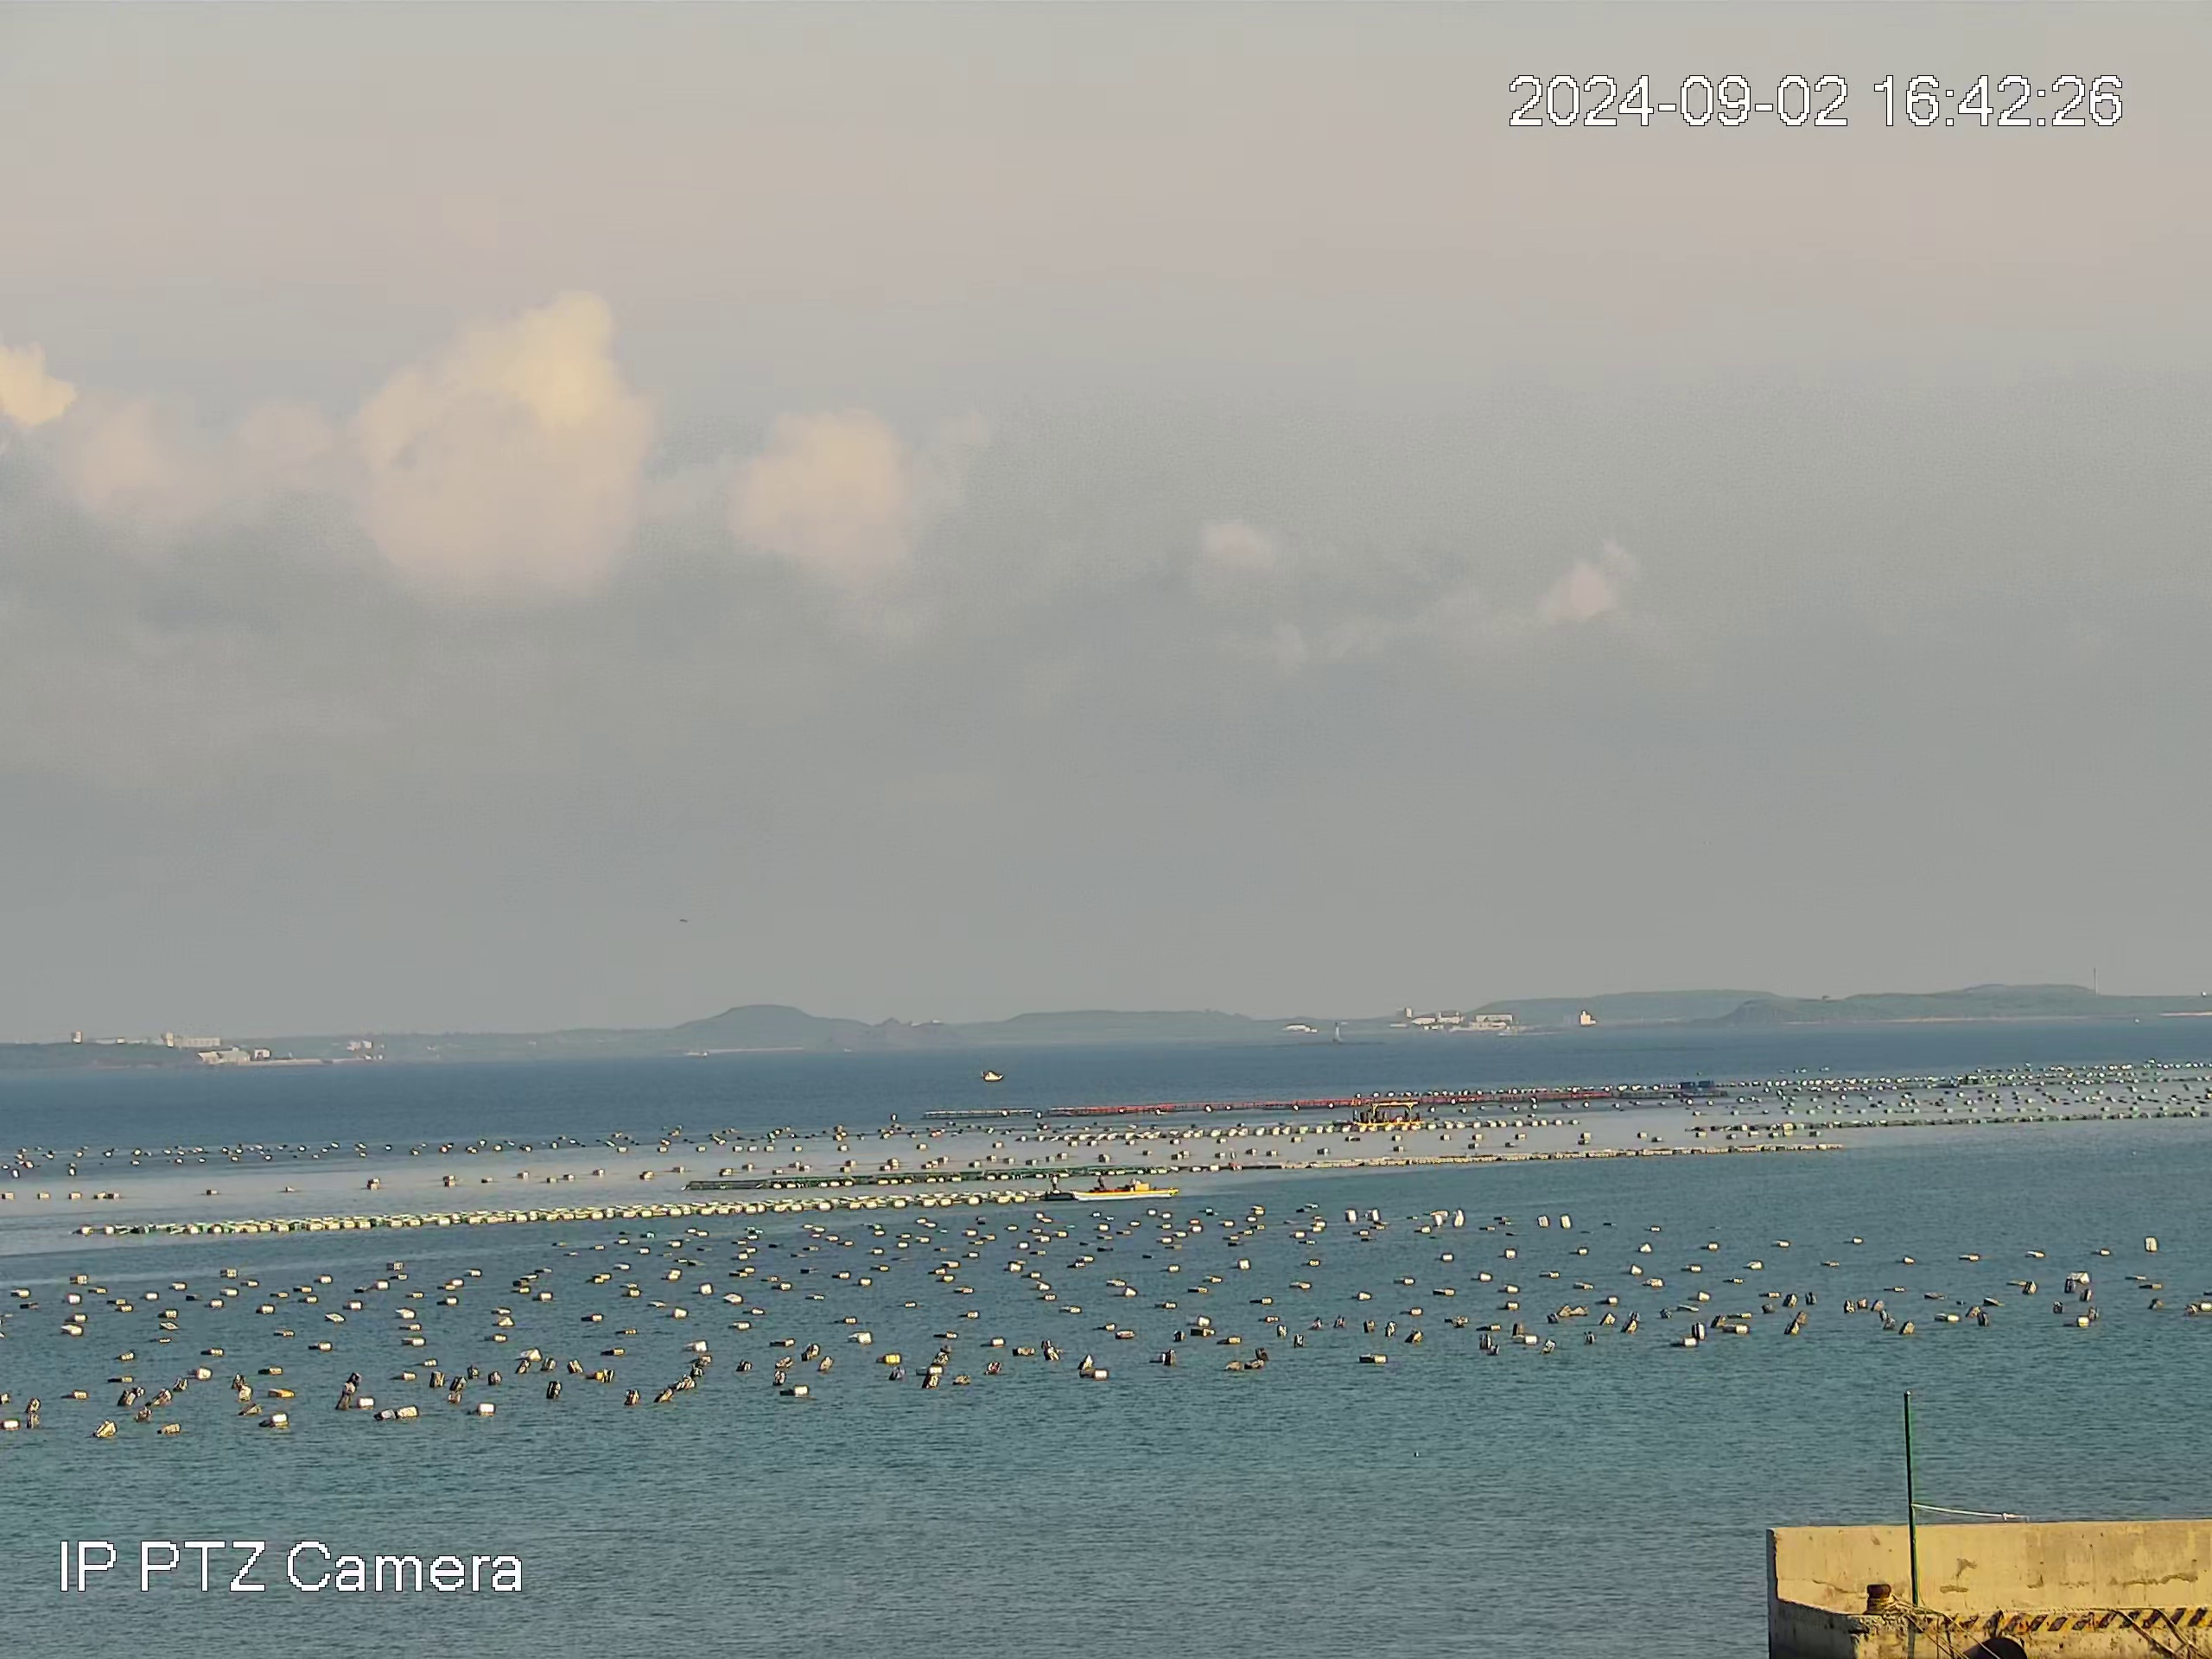boat: (1038, 1173, 1181, 1204), (1350, 1100, 1425, 1126), (982, 1070, 1003, 1082)
